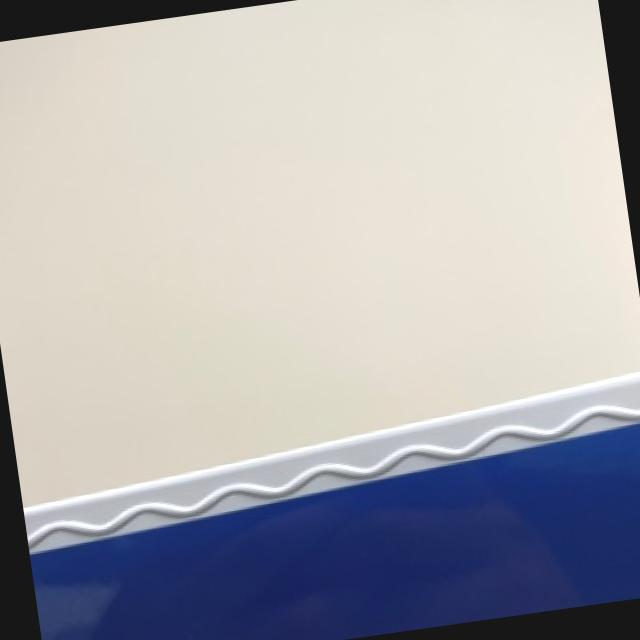healthy: (23, 371, 640, 640)
